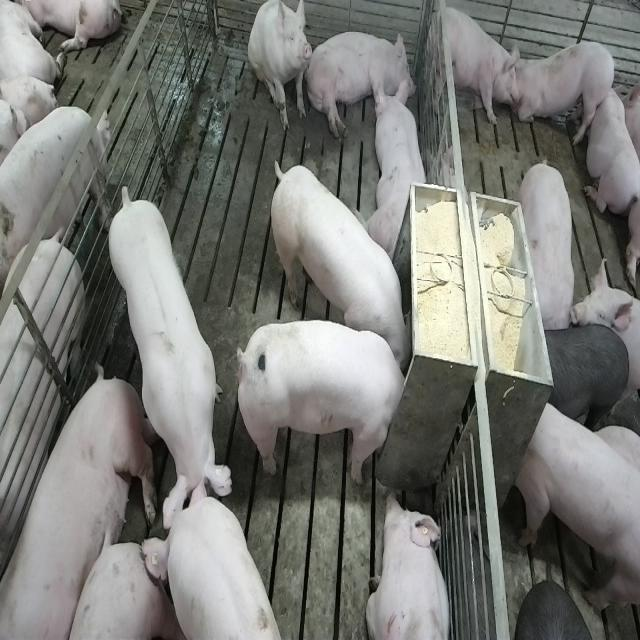Feeding: (265, 159, 411, 368), (232, 318, 408, 484)
Lateral_lying: (4, 367, 158, 640), (304, 27, 418, 140)
Sitting: (248, 1, 314, 134)
Standing: (104, 187, 230, 527), (0, 226, 89, 572), (516, 394, 638, 626), (138, 488, 284, 640), (0, 101, 110, 289), (428, 3, 518, 131), (510, 37, 615, 143), (517, 155, 578, 332), (540, 322, 628, 429)
Sternal_lying: (366, 489, 453, 640), (365, 80, 431, 263), (584, 73, 639, 216)
